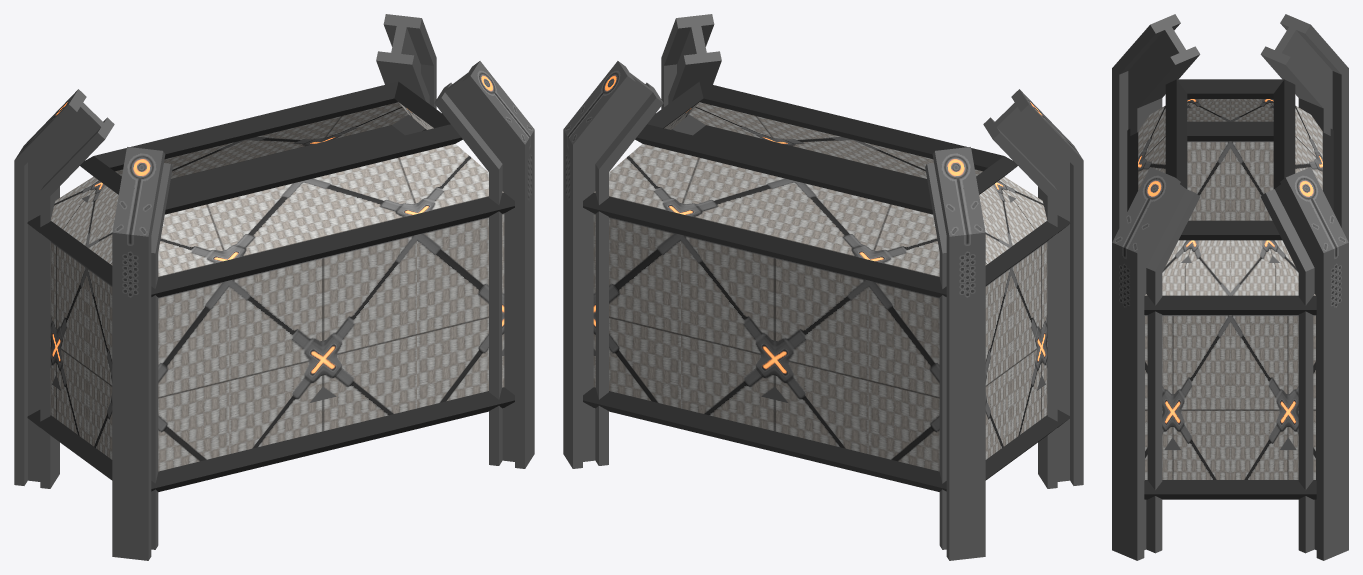
3 renders of one model, left to right at view 1: azimuth 30°, elevation 25°; view 2: azimuth 150°, elevation 25°; view 3: azimuth 270°, elevation 25°, orthographic. The views are drawn at different scales.
Parts seen in each view (by area): view 1: Plane.003; view 2: Plane.003; view 3: Plane.003.
Boxes of the visible parts, x1,y1,x2,y2 form: Plane.003: [14, 14, 534, 560]; Plane.003: [563, 14, 1083, 560]; Plane.003: [1112, 14, 1348, 560].
Size of the model in its own units: 20.45 by 17.9 by 10.45.
Materials: 1 (1 with a texture image).
